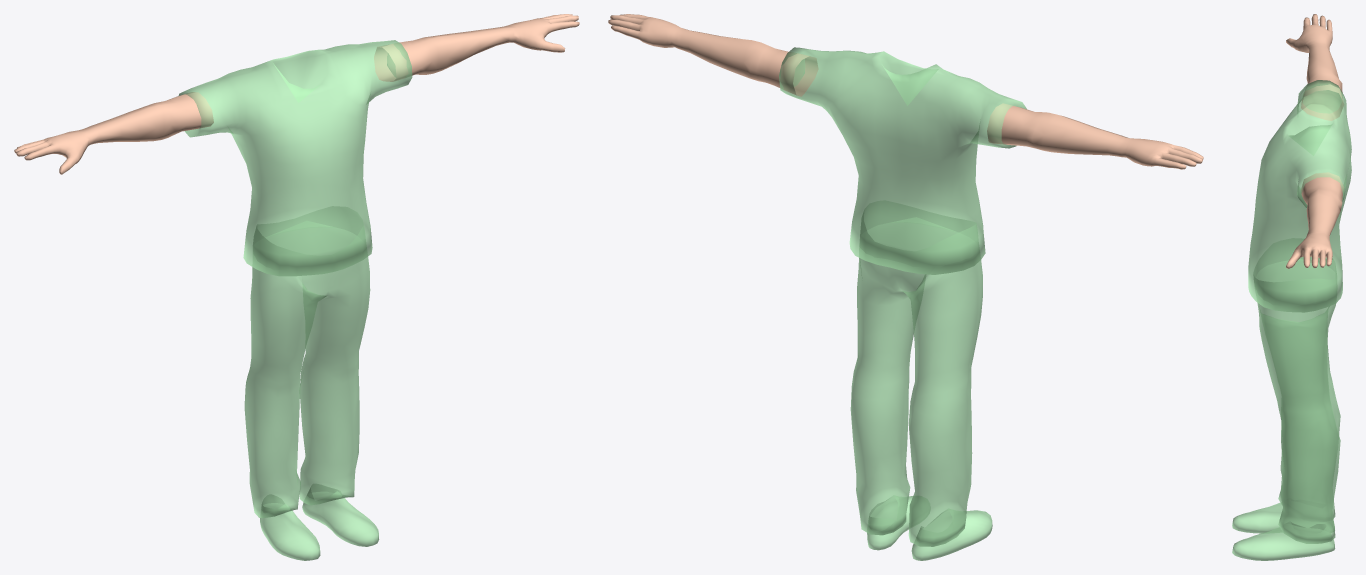
The model's file is ManJohn.fbx.
3 views of the same model, side by side, from view 1: azimuth 30°, elevation 25°; view 2: azimuth 150°, elevation 25°; view 3: azimuth 270°, elevation 25° (orthographic). The views are drawn at different scales.
Parts seen in each view (by area): view 1: ManJohn_lod0; view 2: ManJohn_lod0; view 3: ManJohn_lod0.
Part boxes in pixels (<box>): ManJohn_lod0: <box>14,14,579,560</box>; ManJohn_lod0: <box>608,14,1203,560</box>; ManJohn_lod0: <box>1232,14,1351,560</box>.
Size of what is drawn, in the model's own units: 192 by 151 by 38.58.
